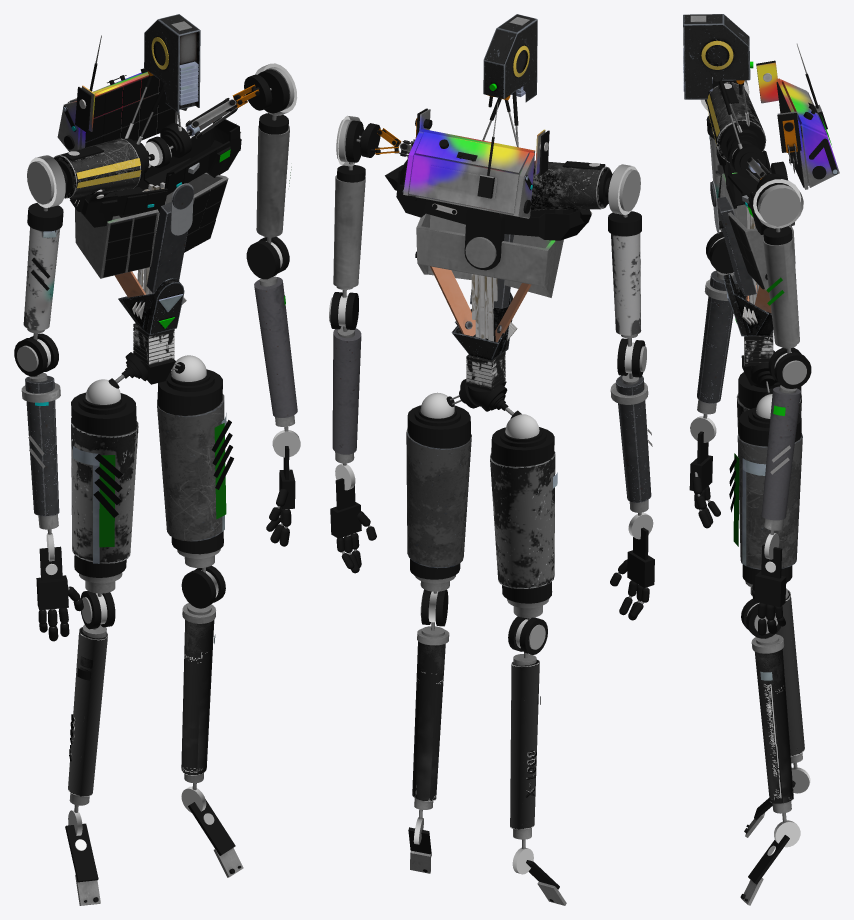
The model's file is Robot_73_V01.gltf.
3 renders of one model, left to right at view 1: azimuth 30°, elevation 25°; view 2: azimuth 150°, elevation 25°; view 3: azimuth 270°, elevation 25°, orthographic. The views are drawn at different scales.
Parts seen in each view (by area): view 1: pCylinder45, pCylinder377:PIV, pCylinder385:PIV, pCylinder335:PIV, pCylinder195, pCylinder314, pCylinder392, head_geoShape, polySurface614:PIV, arm_Upr_R_Geo1, polySurface708:PIV, clav_body_Base_R_geo:PIV (+29 smaller); view 2: pCylinder377:PIV, pCylinder45, polySurface708:PIV, pCylinder385:PIV, pCylinder335:PIV, head_geoShape, pCylinder195, pCylinder392, pCylinder314, clav_body_Base_R_geo:PIV, polySurface712, arm_Upr_R_Geo1 (+21 smaller); view 3: pCylinder45, head_geoShape, pCylinder335:PIV, pCylinder195, pCylinder314, pCylinder392, pCylinder385:PIV, clav_body_Base_R_geo:PIV, polySurface798, pelvis_L_Side_geoShape, chest_GeoShape, polySurface708:PIV (+31 smaller).
Boxes of the visible parts, bbox=[...] form: pCylinder45: bbox=[157, 394, 224, 541]; pCylinder377:PIV: bbox=[71, 418, 138, 563]; pCylinder385:PIV: bbox=[68, 627, 107, 796]; pCylinder335:PIV: bbox=[181, 620, 214, 775]; pCylinder195: bbox=[254, 276, 297, 417]; pCylinder314: bbox=[25, 375, 59, 516]; pCylinder392: bbox=[256, 125, 289, 237]; head_geoShape: bbox=[144, 14, 200, 112]; polySurface614:PIV: bbox=[143, 117, 241, 189]; arm_Upr_R_Geo1: bbox=[23, 227, 60, 330]; polySurface708:PIV: bbox=[75, 172, 228, 278]; clav_body_Base_R_geo:PIV: bbox=[53, 138, 140, 198]; pCylinder377:PIV: bbox=[490, 451, 555, 588]; pCylinder45: bbox=[406, 428, 471, 568]; polySurface708:PIV: bbox=[416, 213, 563, 297]; pCylinder385:PIV: bbox=[510, 659, 539, 829]; pCylinder335:PIV: bbox=[412, 641, 445, 801]; head_geoShape: bbox=[483, 14, 537, 102]; pCylinder195: bbox=[332, 326, 361, 454]; pCylinder392: bbox=[333, 175, 365, 287]; pCylinder314: bbox=[616, 375, 651, 502]; clav_body_Base_R_geo:PIV: bbox=[530, 160, 610, 210]; polySurface712: bbox=[409, 154, 519, 213]; arm_Upr_R_Geo1: bbox=[611, 233, 641, 335]; pCylinder45: bbox=[737, 433, 802, 569]; head_geoShape: bbox=[683, 14, 750, 99]; pCylinder335:PIV: bbox=[754, 649, 793, 803]; pCylinder195: bbox=[761, 386, 800, 520]; pCylinder314: bbox=[697, 270, 736, 403]; pCylinder392: bbox=[763, 236, 799, 347]; pCylinder385:PIV: bbox=[776, 590, 804, 756]; clav_body_Base_R_geo:PIV: bbox=[707, 82, 766, 162]; polySurface798: bbox=[758, 184, 800, 225]; pelvis_L_Side_geoShape: bbox=[723, 274, 773, 336]; chest_GeoShape: bbox=[717, 196, 756, 296]; polySurface708:PIV: bbox=[720, 172, 795, 290].
Bounding box in the file's own units: 1.59 × 4.46 × 0.7464.
